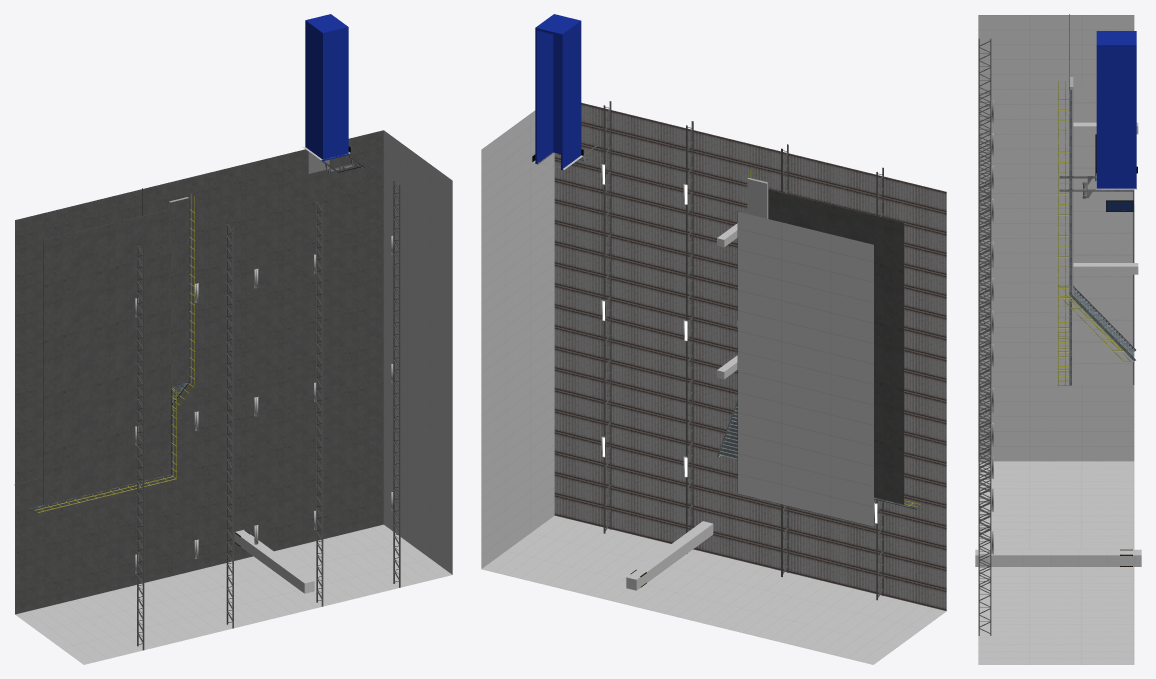
The picture shows the model from 3 angles, left to right: view 1: azimuth 30°, elevation 25°; view 2: azimuth 150°, elevation 25°; view 3: azimuth 270°, elevation 25°; orthographic projection. The views are drawn at different scales.
Visible parts, largest first — view 1: merged_Floor.001, merged_Wall.001, merged_Rafters.001, merged_ContainerSimple, merged_StairsMetal.001, merged_Light.001; view 2: merged_Ceiling.001, merged_Wall.001, merged_Floor.001, merged_Rafters.001, merged_ContainerSimple, merged_StairsMetal.001, merged_Blank.001, merged_Light.001; view 3: merged_Wall.001, merged_Rafters.001, merged_ContainerSimple, merged_StairsMetal.001, merged_Column.001, merged_Light.001, merged_Blank.001, merged_SlidingDoor.001, merged_Door.001, merged_Material.002.
Part boxes in pixels (x1,y1,x2,y2): merged_Floor.001: (15, 130, 383, 614); merged_Wall.001: (15, 130, 452, 664); merged_Rafters.001: (137, 181, 400, 650); merged_ContainerSimple: (305, 14, 348, 161); merged_StairsMetal.001: (29, 194, 195, 512); merged_Light.001: (135, 235, 393, 573); merged_Ceiling.001: (554, 102, 946, 611); merged_Wall.001: (481, 110, 946, 664); merged_Floor.001: (749, 177, 904, 504); merged_Rafters.001: (603, 101, 883, 600); merged_ContainerSimple: (535, 14, 581, 170); merged_StairsMetal.001: (717, 168, 920, 509); merged_Blank.001: (747, 178, 768, 218); merged_Light.001: (601, 164, 877, 523); merged_Wall.001: (975, 15, 1141, 664); merged_Rafters.001: (978, 38, 991, 635); merged_ContainerSimple: (1096, 31, 1136, 189); merged_StairsMetal.001: (1057, 81, 1135, 385); merged_Column.001: (1073, 122, 1138, 274); merged_Light.001: (991, 100, 993, 554); merged_Blank.001: (1070, 77, 1073, 294); merged_SlidingDoor.001: (1059, 176, 1134, 198); merged_Door.001: (1106, 200, 1133, 211); merged_Material.002: (1133, 191, 1134, 384).
Size of the model in its own units: 39.03 by 50.98 by 13.01.
20 materials, 11 textured.
